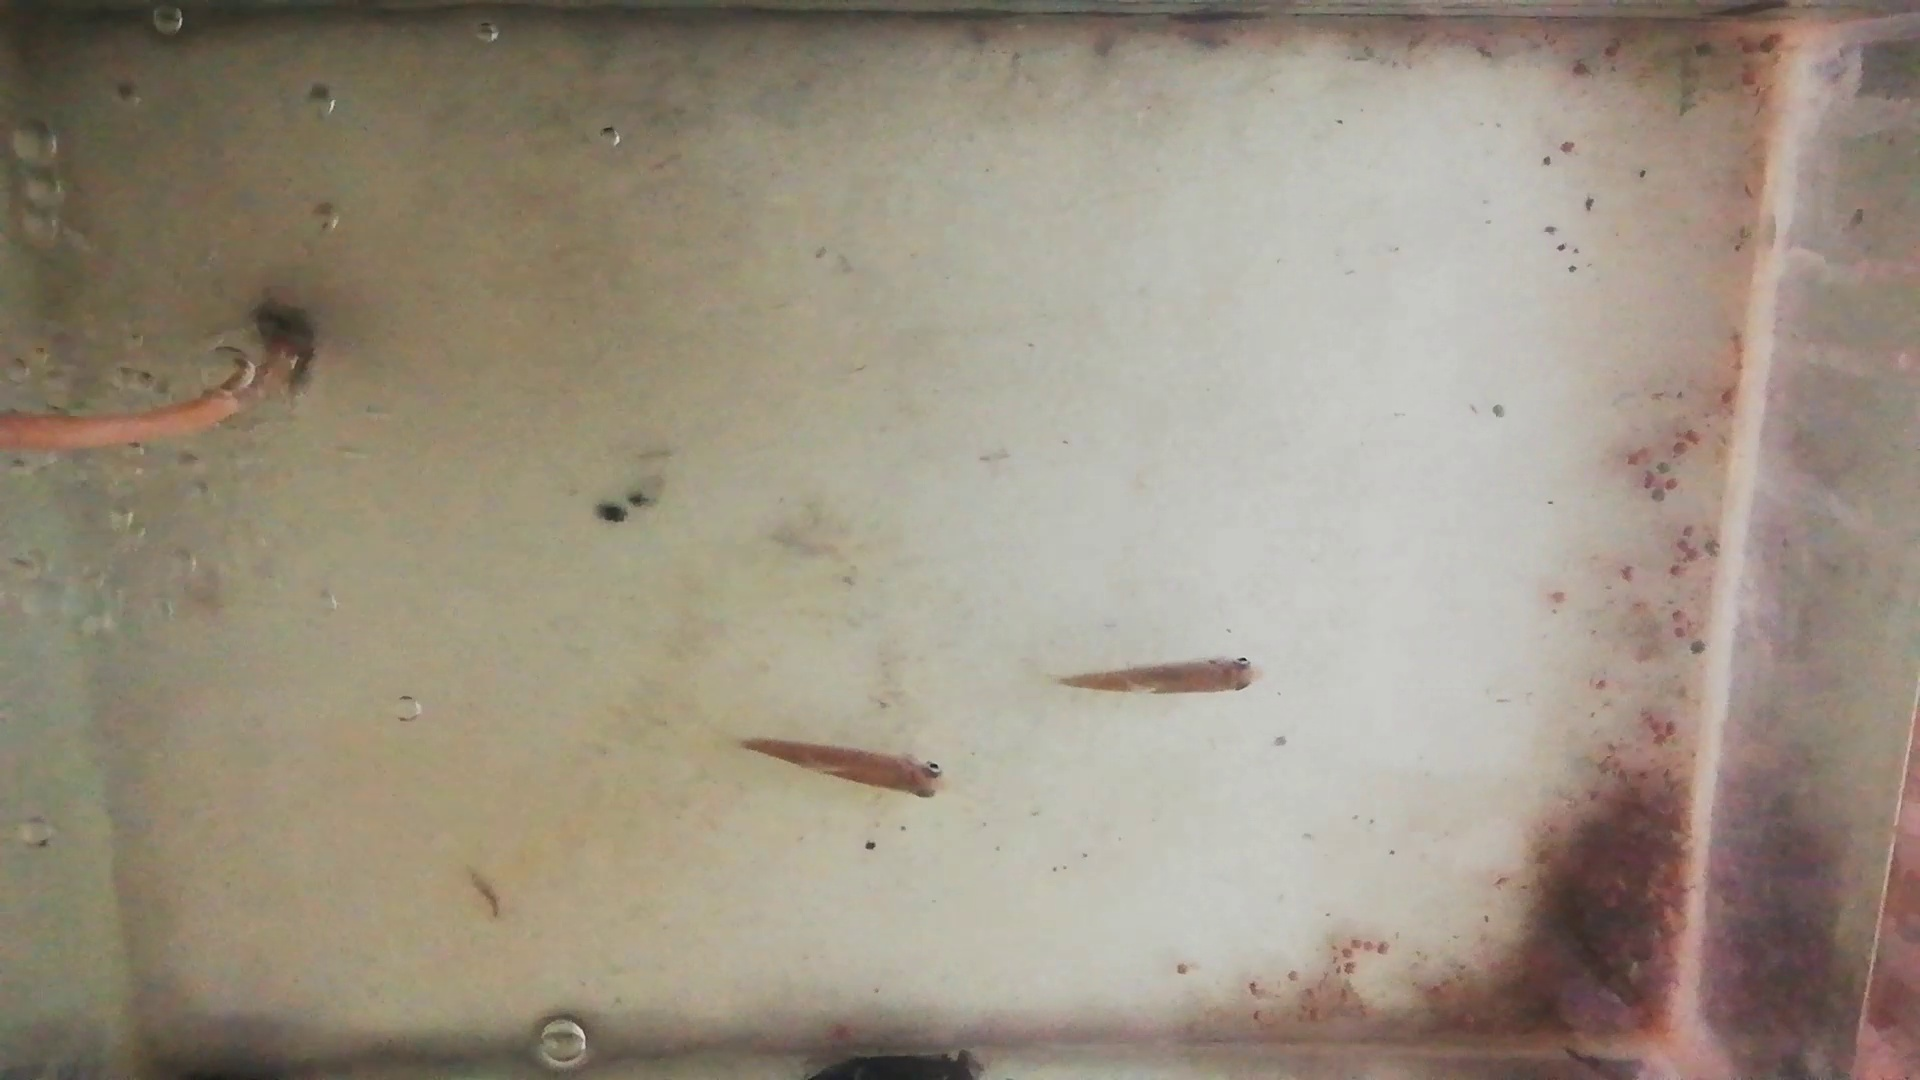fish: (738, 735, 949, 799), (1055, 661, 1262, 702)
